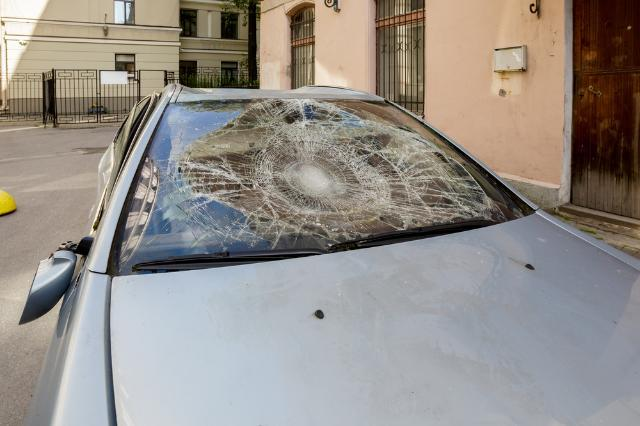glass shatter: (120, 99, 525, 273)
